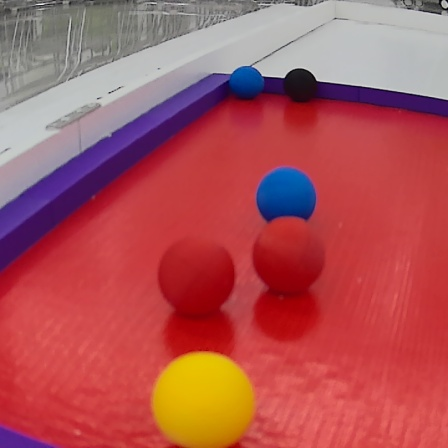black: (278, 65, 320, 105)
blue: (257, 167, 319, 223), (229, 64, 264, 103)
red: (253, 212, 327, 299), (157, 236, 237, 315)
red_aim: (1, 72, 448, 448)
yellow: (148, 352, 259, 446)
